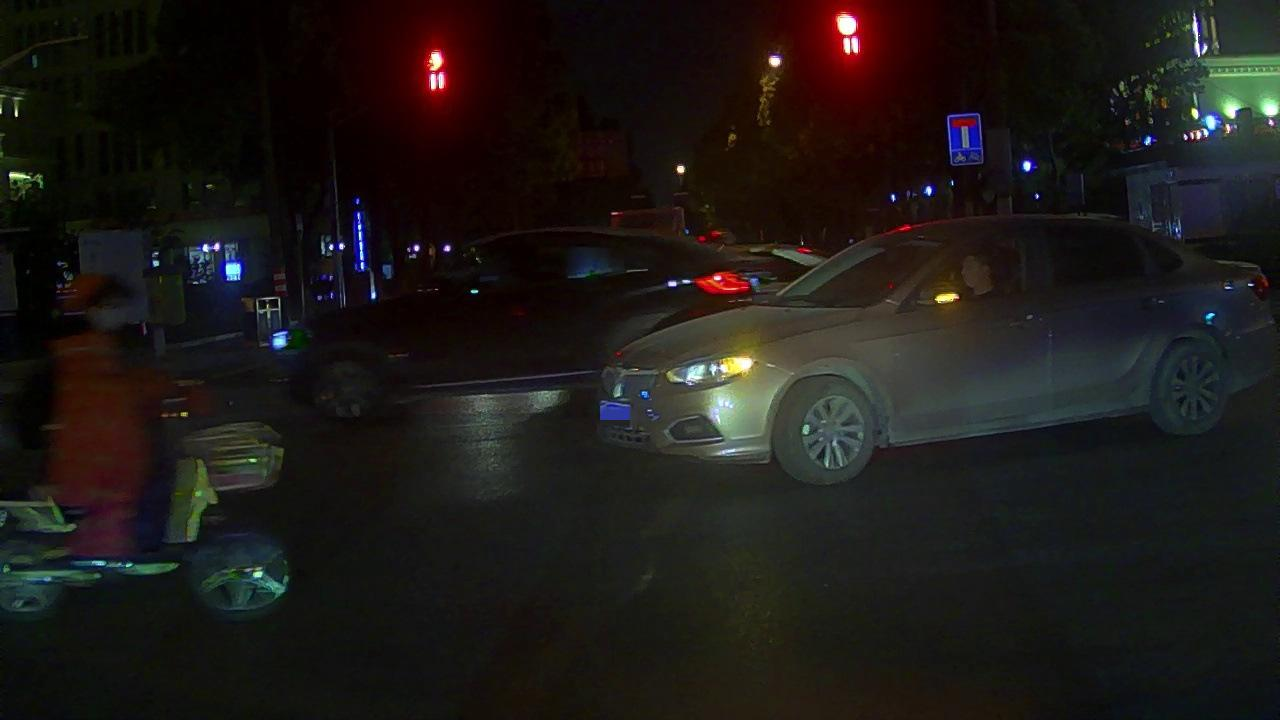traffic_light: (831, 6, 864, 61), (426, 46, 447, 98)
